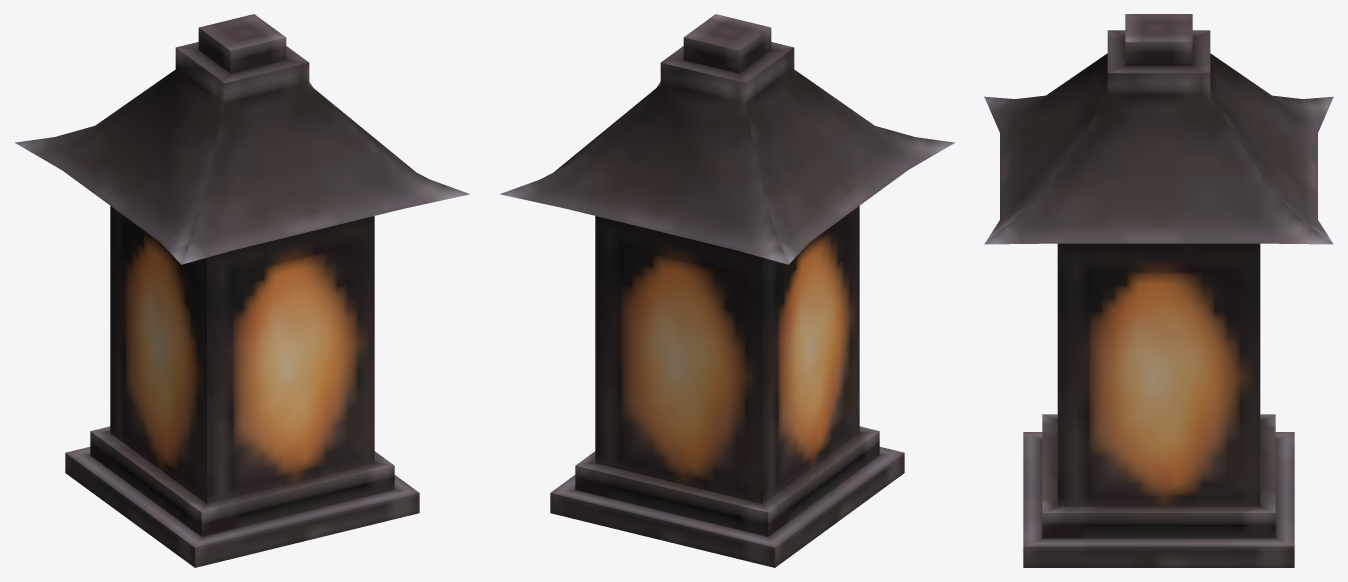
The model's file is fld_deng01_z.FBX.
3 renders of one model, left to right at view 1: azimuth 30°, elevation 25°; view 2: azimuth 150°, elevation 25°; view 3: azimuth 270°, elevation 25°, orthographic. The views are drawn at different scales.
Parts seen in each view (by area): view 1: fld_deng01_z; view 2: fld_deng01_z; view 3: fld_deng01_z.
Boxes of the visible parts, <box> form: fld_deng01_z: <box>15,14,469,567</box>; fld_deng01_z: <box>500,14,954,567</box>; fld_deng01_z: <box>984,14,1333,567</box>.
Bounding box in the file's own units: 2.95 × 4.5 × 2.95.
